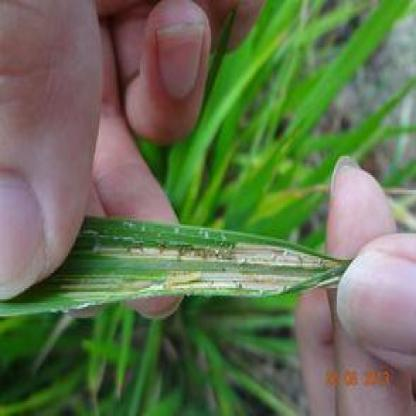leaf-folder: (142, 260, 210, 314)
